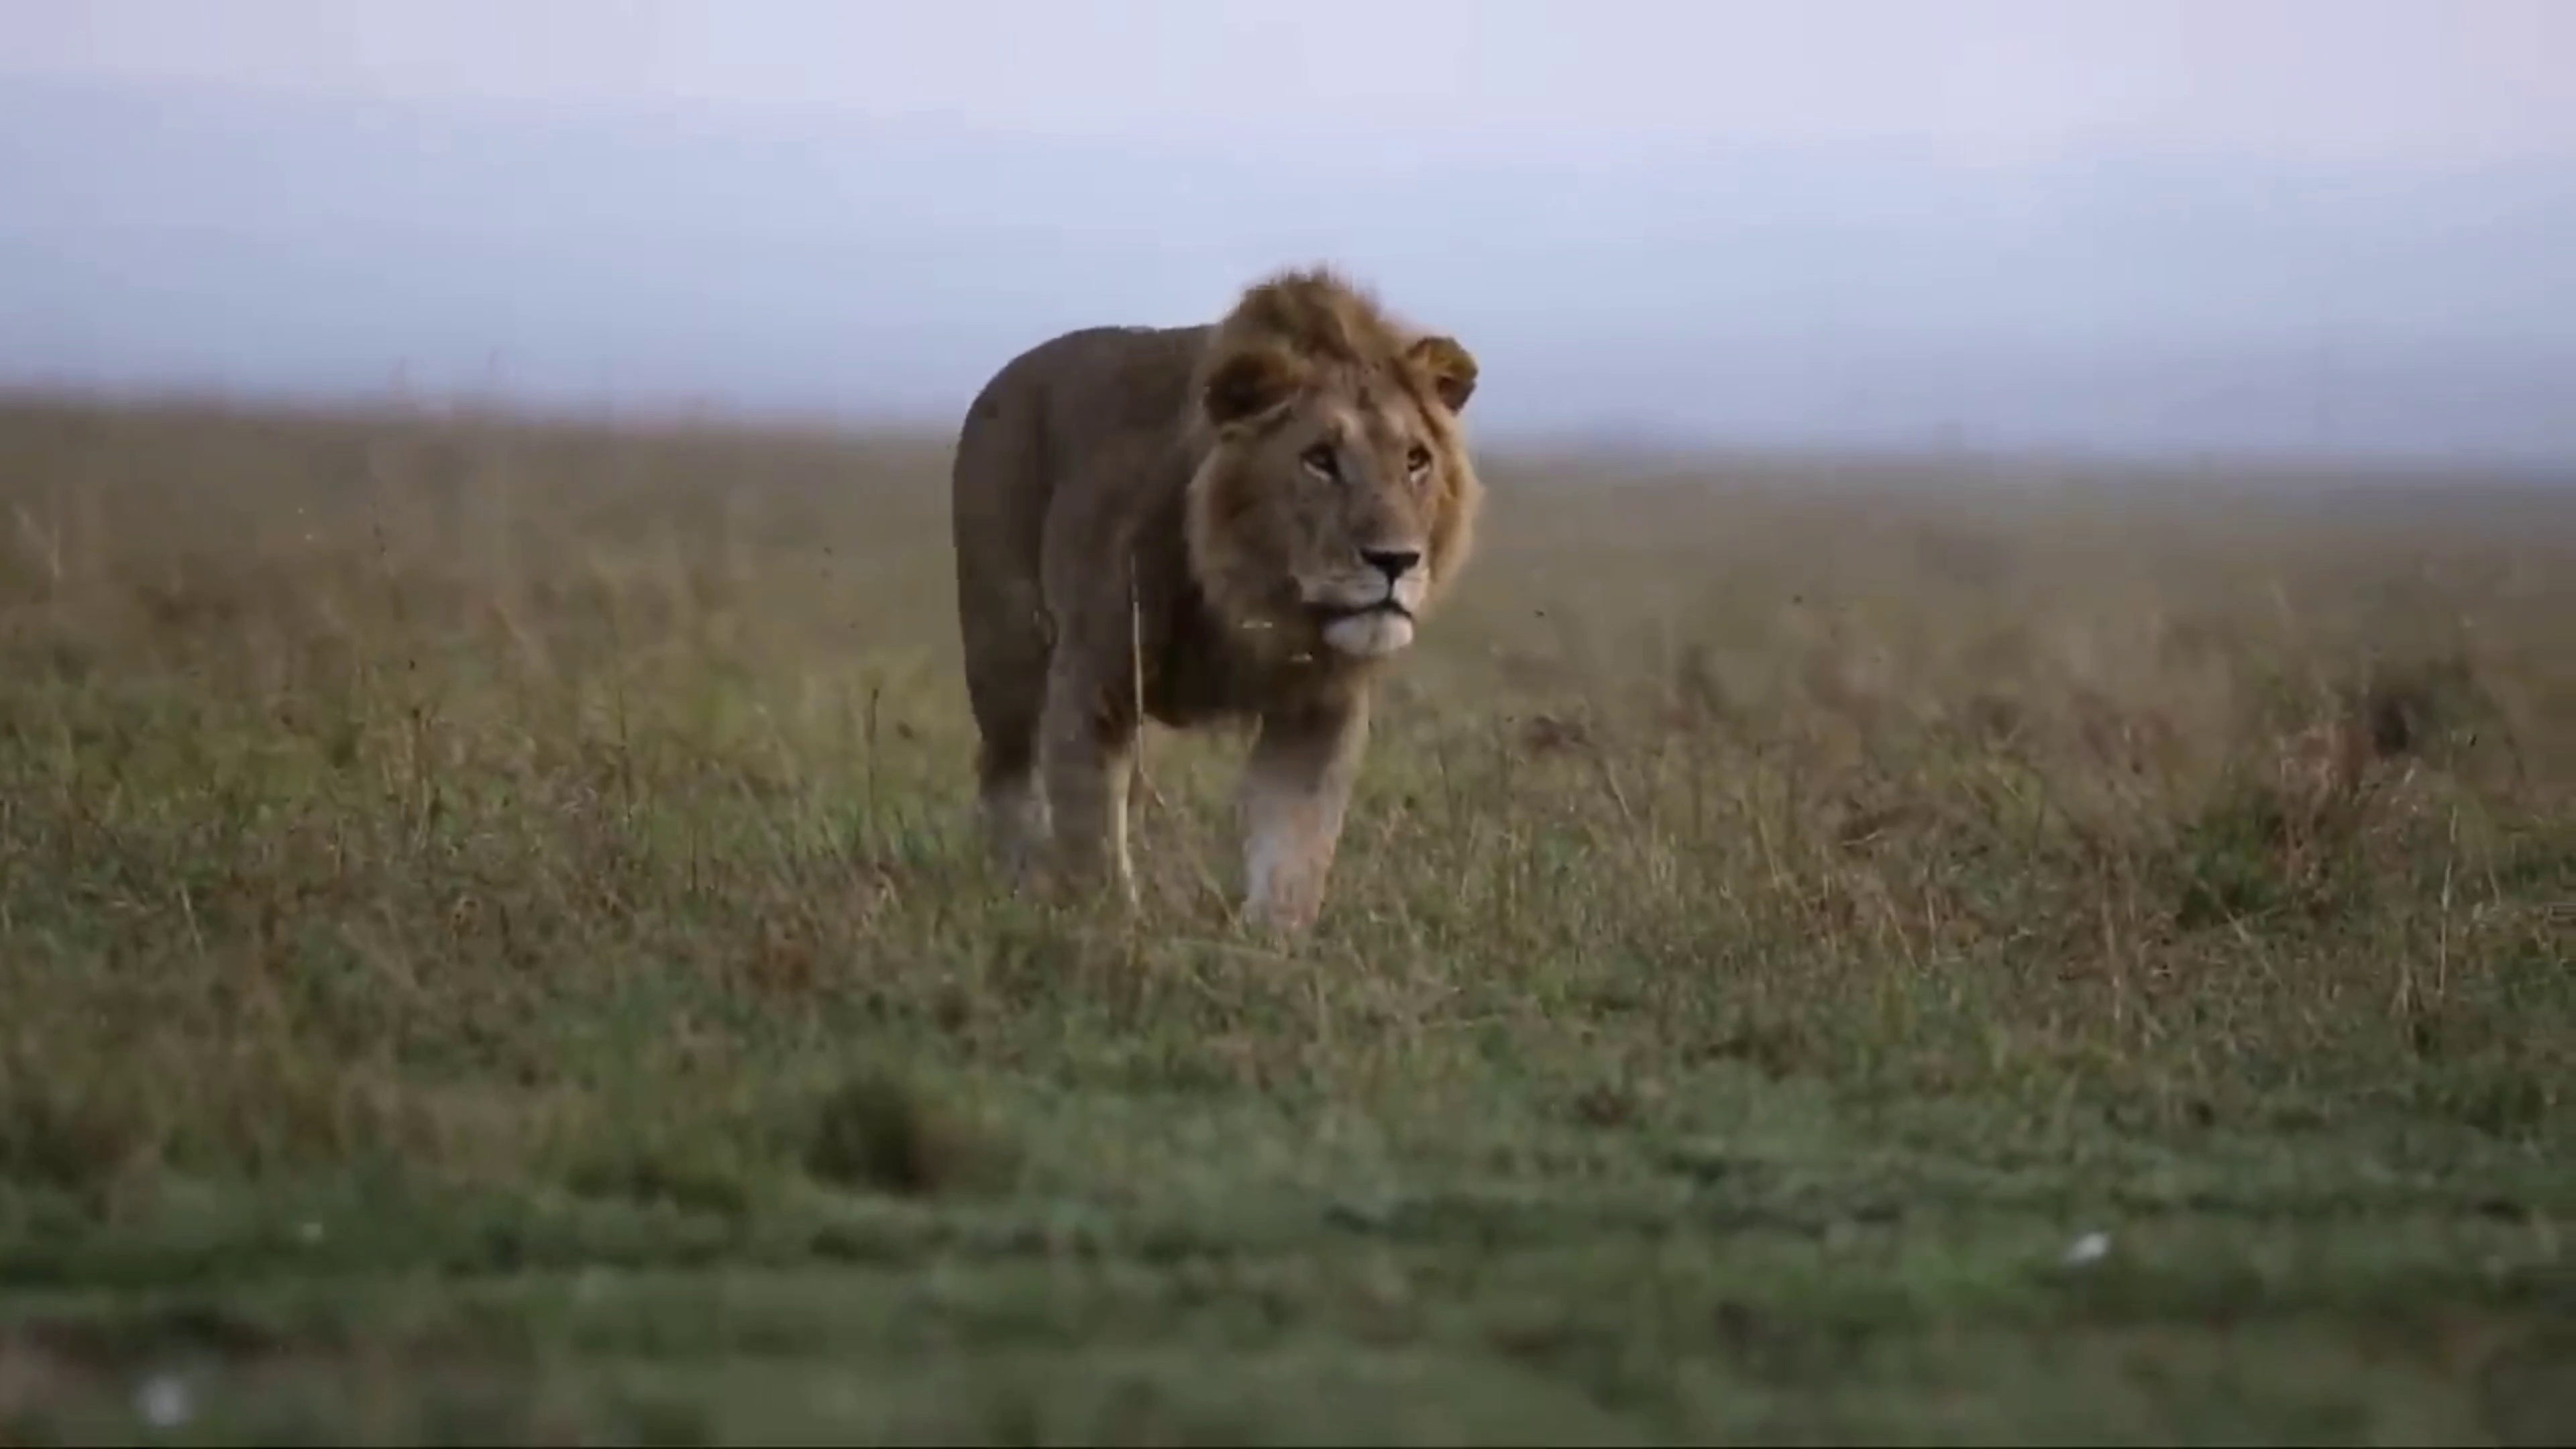Lion: (952, 262, 1483, 936)
